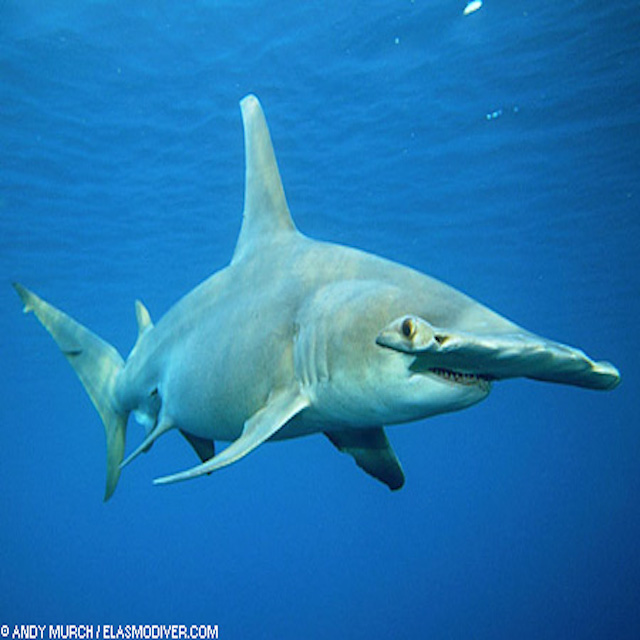hammerhead: (241, 190, 635, 435)
